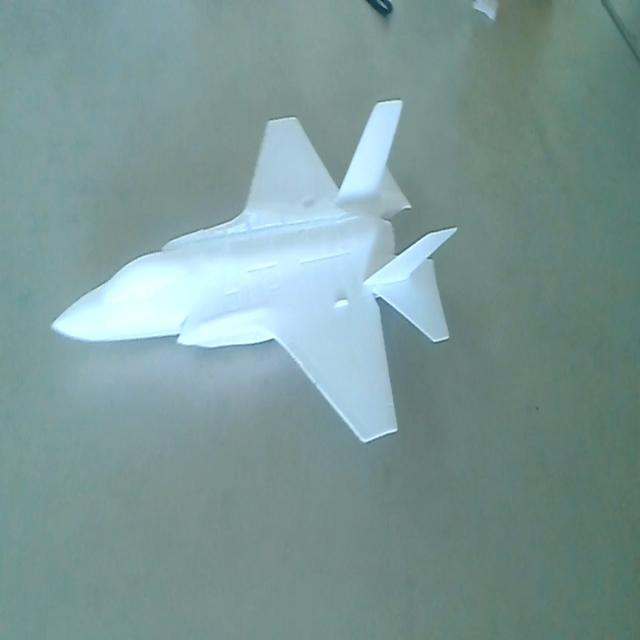Jet: (49, 90, 461, 462)
